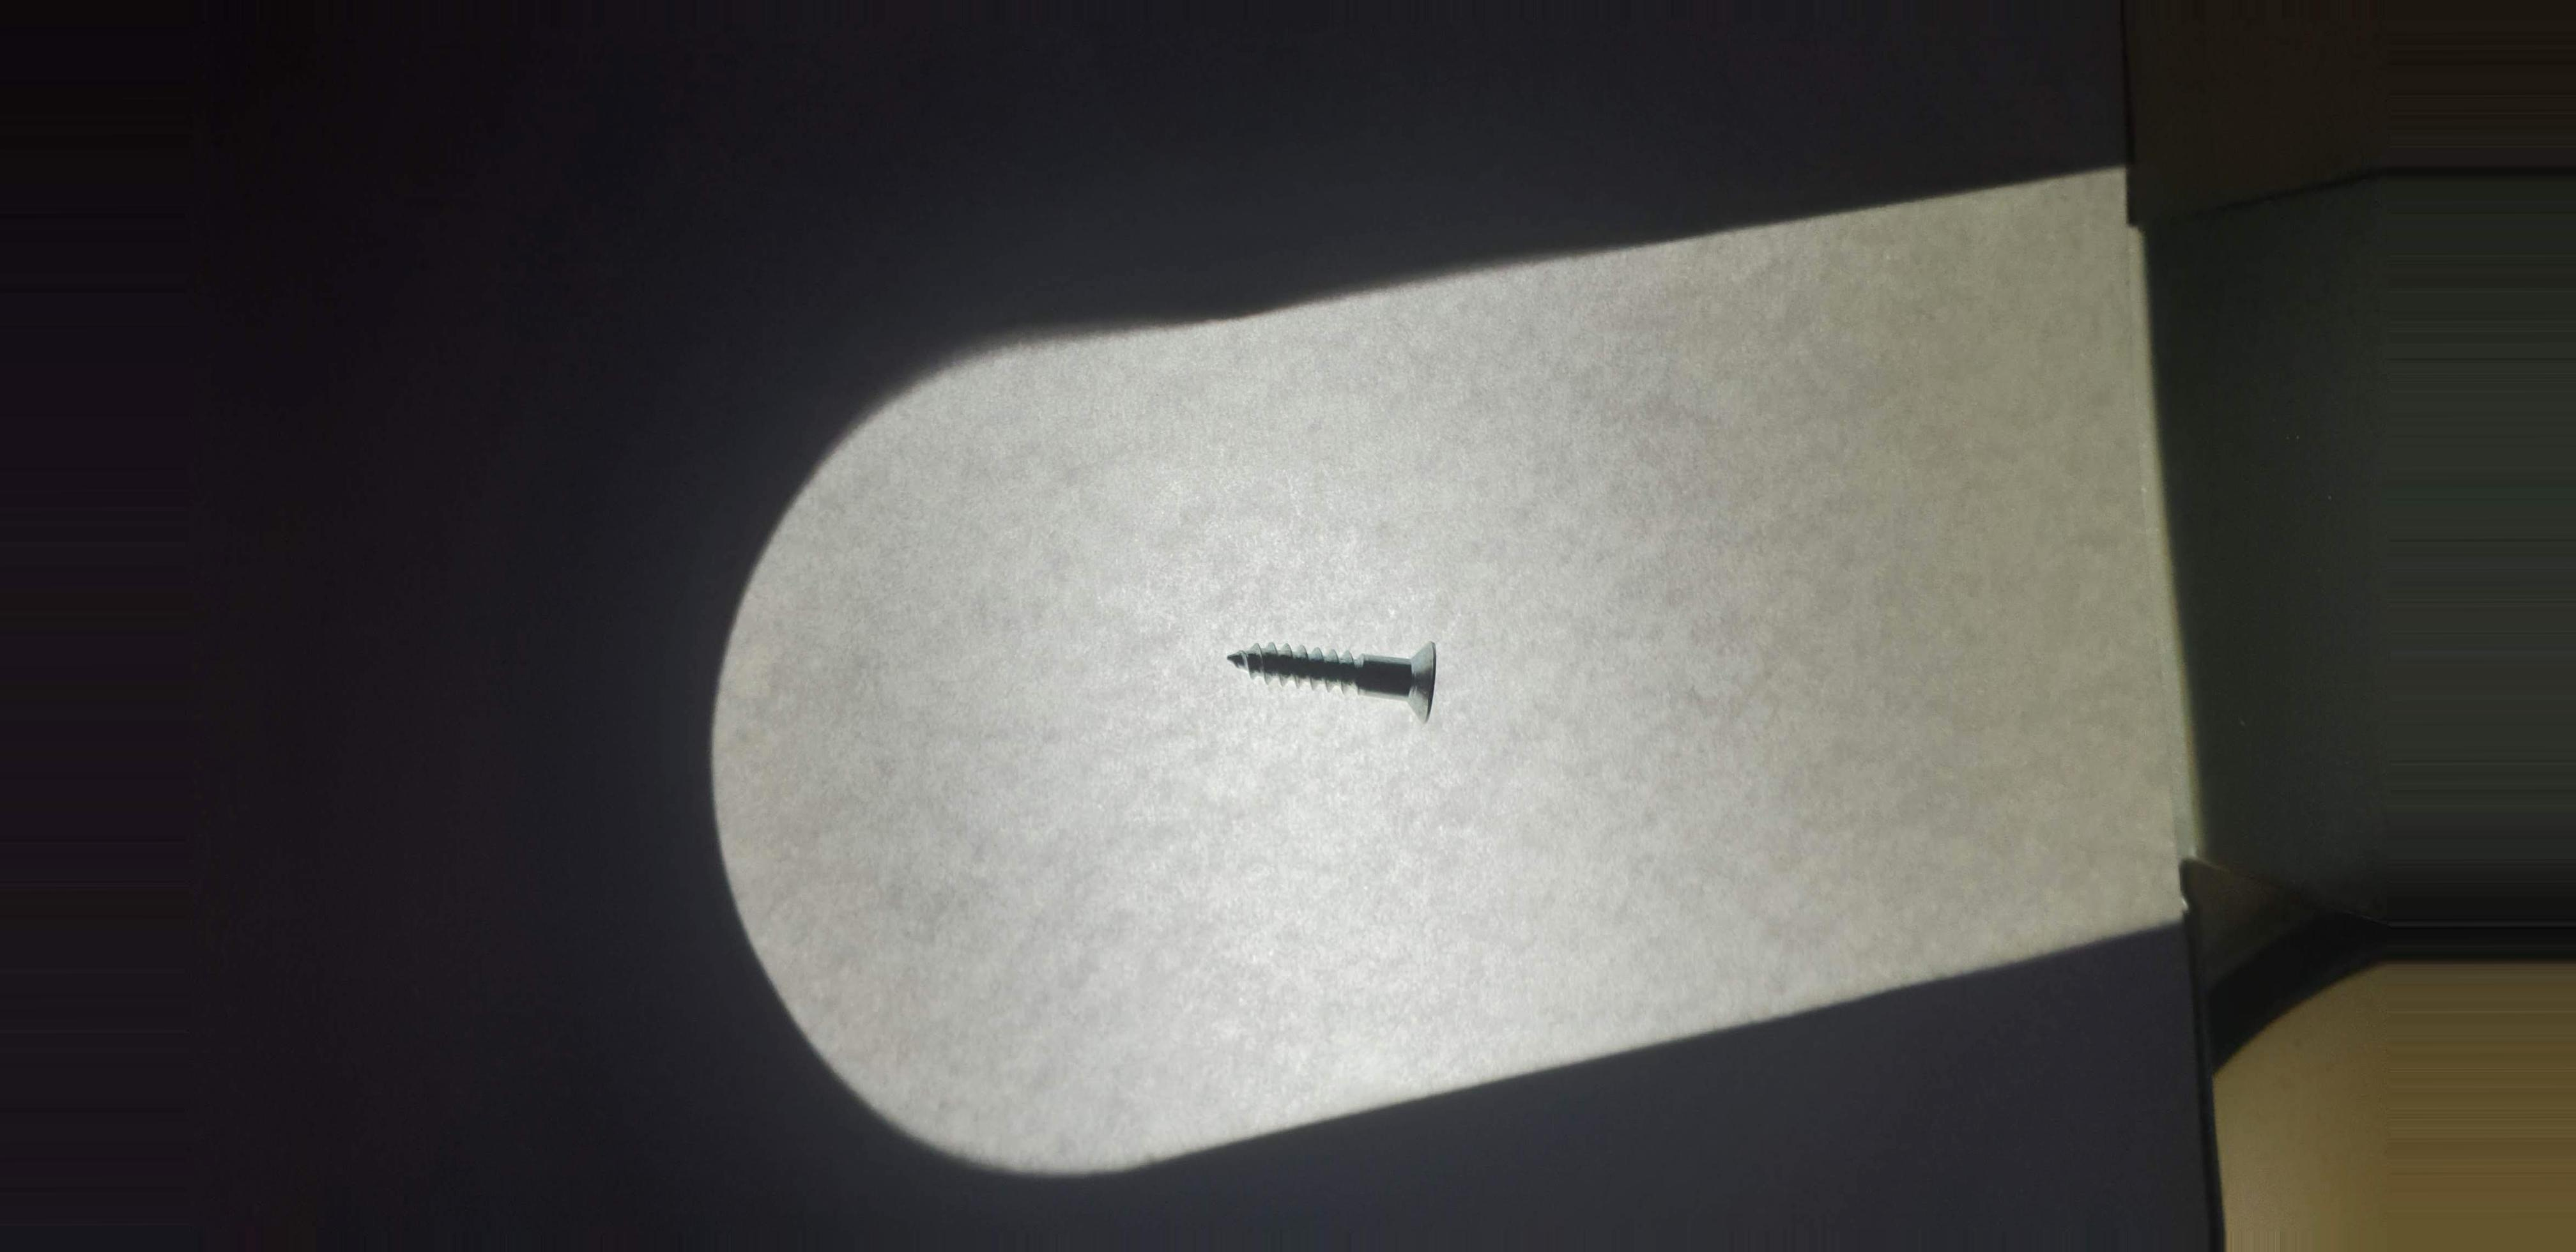S005: (1204, 614, 1469, 738)
